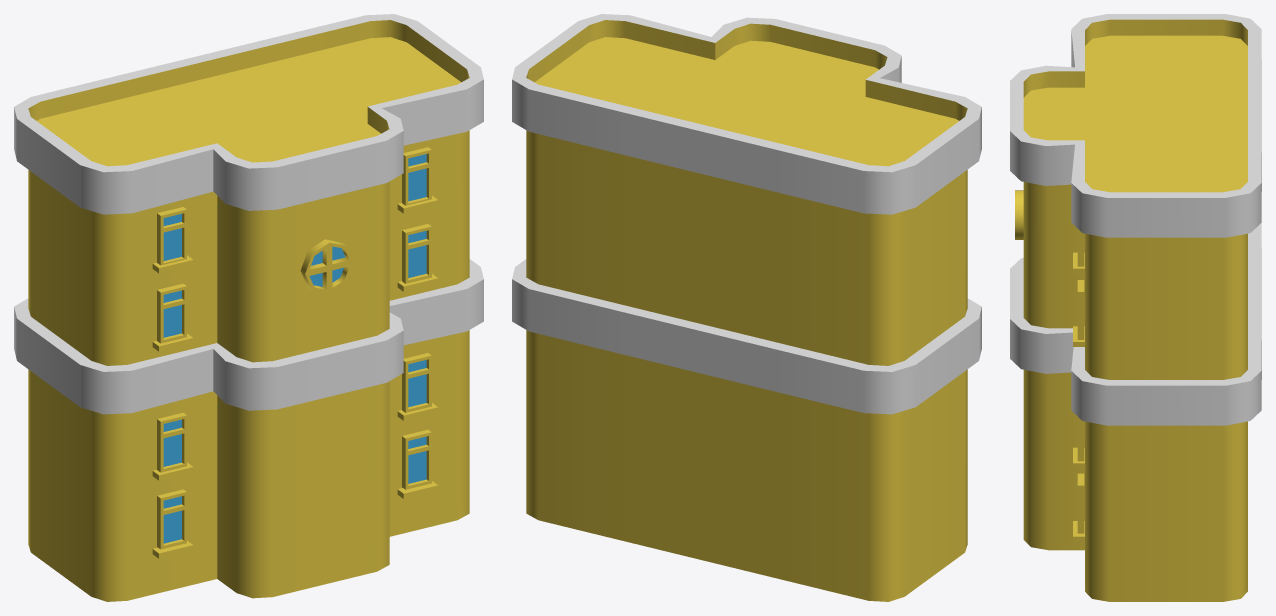
Rendered from House_2.fbx.
The picture shows the model from 3 angles, left to right: view 1: azimuth 30°, elevation 25°; view 2: azimuth 150°, elevation 25°; view 3: azimuth 270°, elevation 25°; orthographic projection. The views are drawn at different scales.
Visible parts, largest first — view 1: Cube.010; view 2: Cube.010; view 3: Cube.010.
Boxes of the visible parts, <box> form: Cube.010: <box>14,14,483,601</box>; Cube.010: <box>512,14,981,601</box>; Cube.010: <box>1010,14,1261,601</box>.
Bounding box in the file's own units: 213 × 222 × 123.
